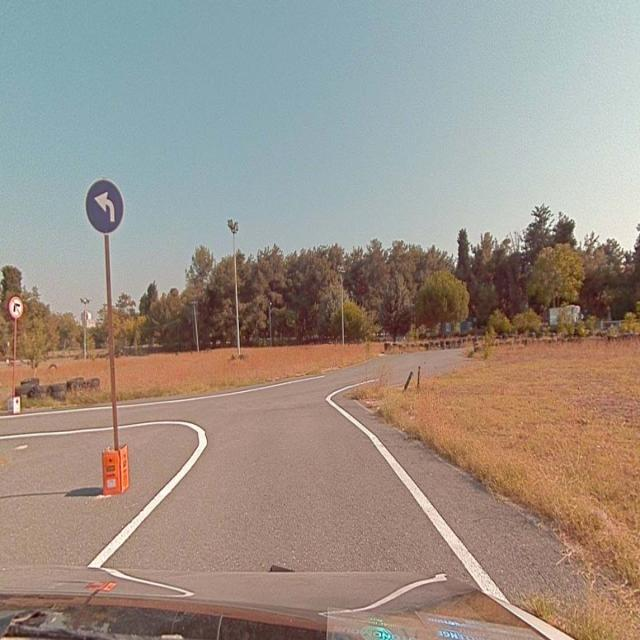sagadonulmez: (10, 298, 22, 318)
sol: (85, 178, 124, 233)
